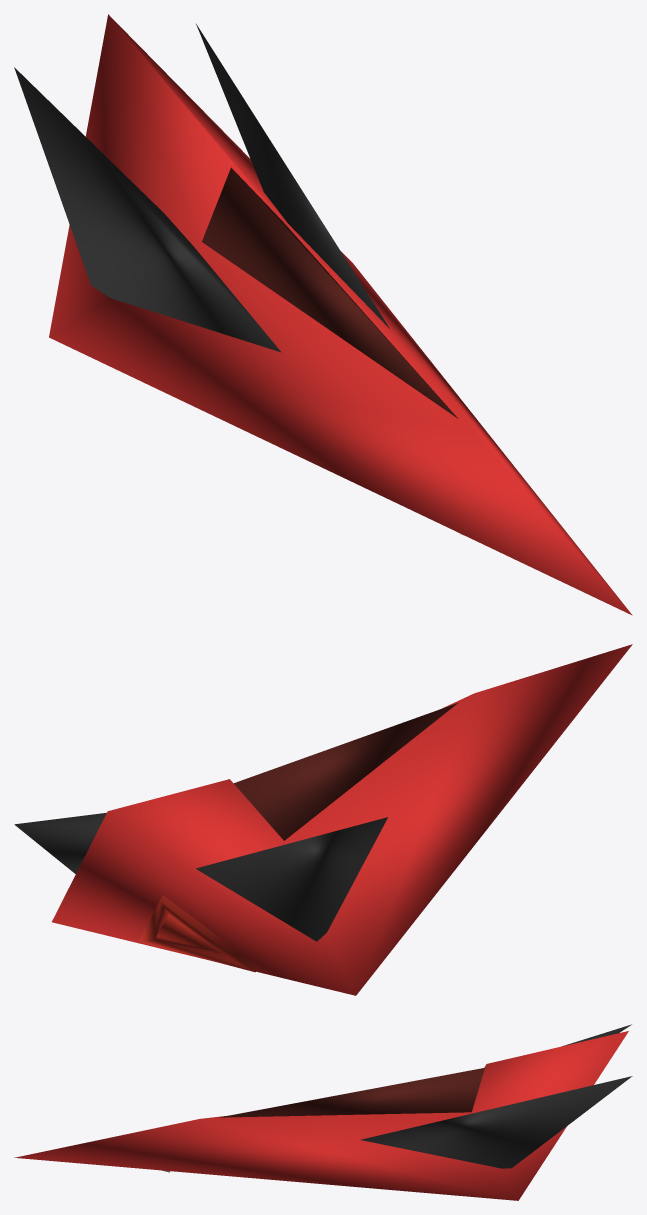
Rendered from lightCar1blend.dae.
3 views of the same model, one above another, from view 1: azimuth 30°, elevation 25°; view 2: azimuth 150°, elevation 25°; view 3: azimuth 270°, elevation 25° (orthographic). The views are drawn at different scales.
Parts seen in each view (by area): view 1: Corpo, Barbatanas, Visor; view 2: Corpo, Barbatanas, Visor, PropulsorT; view 3: Corpo, Barbatanas, Visor.
Boxes of the visible parts, bbox=[...] form: Corpo: bbox=[49, 14, 632, 615]; Barbatanas: bbox=[14, 24, 389, 352]; Visor: bbox=[202, 167, 458, 418]; Corpo: bbox=[52, 644, 632, 995]; Barbatanas: bbox=[14, 812, 387, 941]; Visor: bbox=[234, 703, 457, 840]; PropulsorT: bbox=[139, 895, 258, 972]; Corpo: bbox=[14, 1031, 628, 1200]; Barbatanas: bbox=[360, 1024, 632, 1168]; Visor: bbox=[219, 1068, 484, 1117].
Size of the model in its own units: 1.64 by 4.92 by 1.15.
